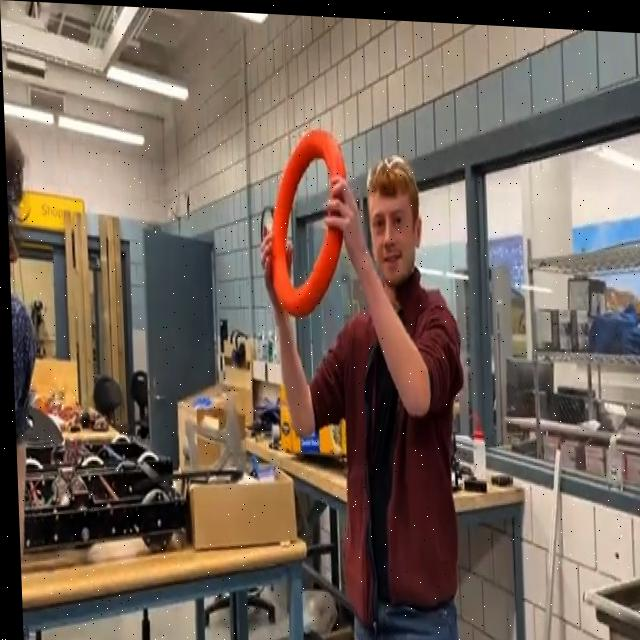note: (263, 118, 352, 320)
